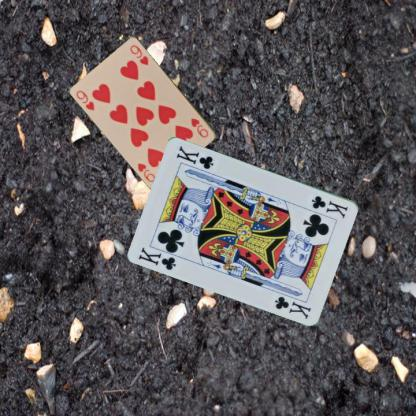9h: (188, 115, 210, 139), (74, 88, 96, 112)
Kc: (136, 244, 178, 271), (309, 193, 350, 220)
